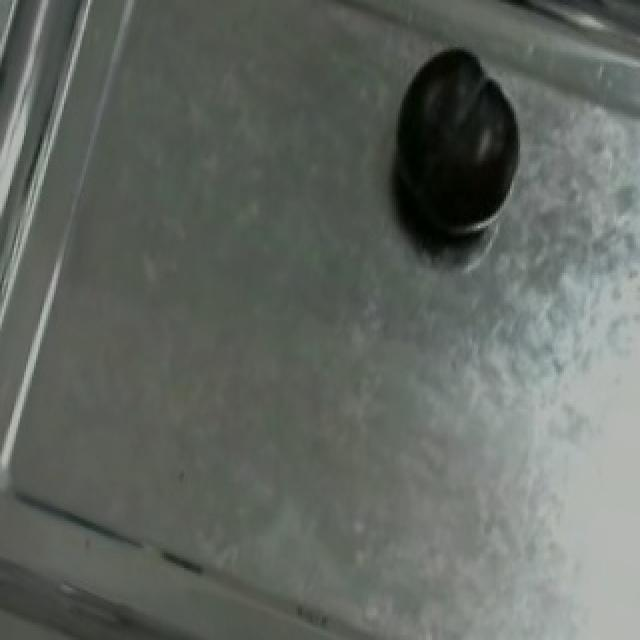Fruit: (376, 29, 544, 250)
